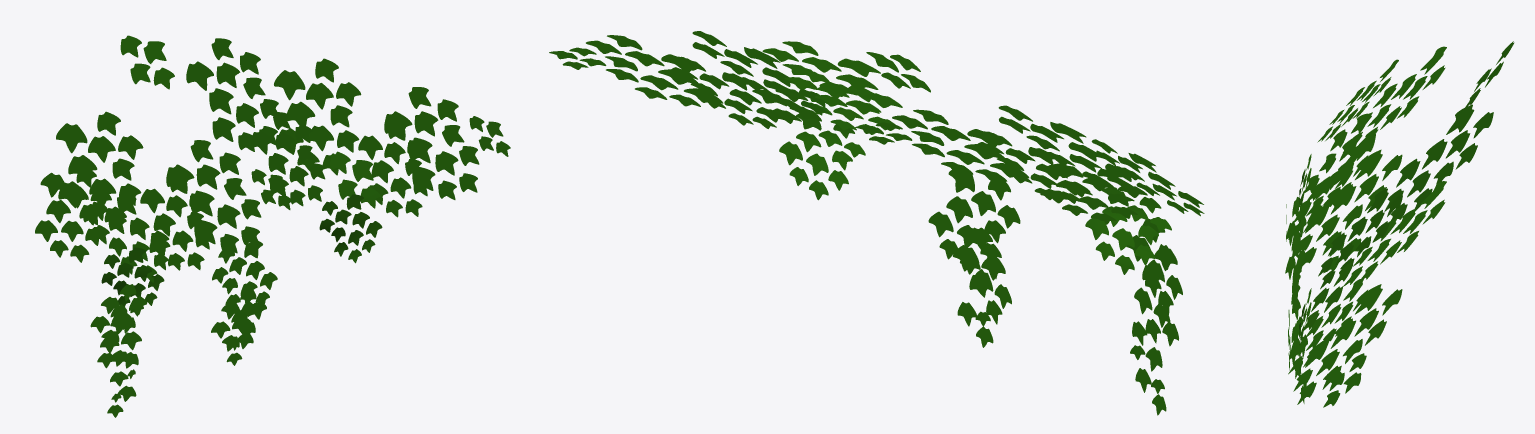
Rendered from Prop_Vine6.obj.
3 renders of one model, left to right at view 1: azimuth 30°, elevation 25°; view 2: azimuth 150°, elevation 25°; view 3: azimuth 270°, elevation 25°, orthographic. The views are drawn at different scales.
Parts seen in each view (by area): view 1: Prop_Vine6; view 2: Prop_Vine6; view 3: Prop_Vine6.
Part boxes in pixels (<box>): Prop_Vine6: <box>35,35,510,417</box>; Prop_Vine6: <box>549,31,1204,415</box>; Prop_Vine6: <box>1285,41,1514,407</box>.
Size of the model in its own units: 4.14 by 2.47 by 1.47.
